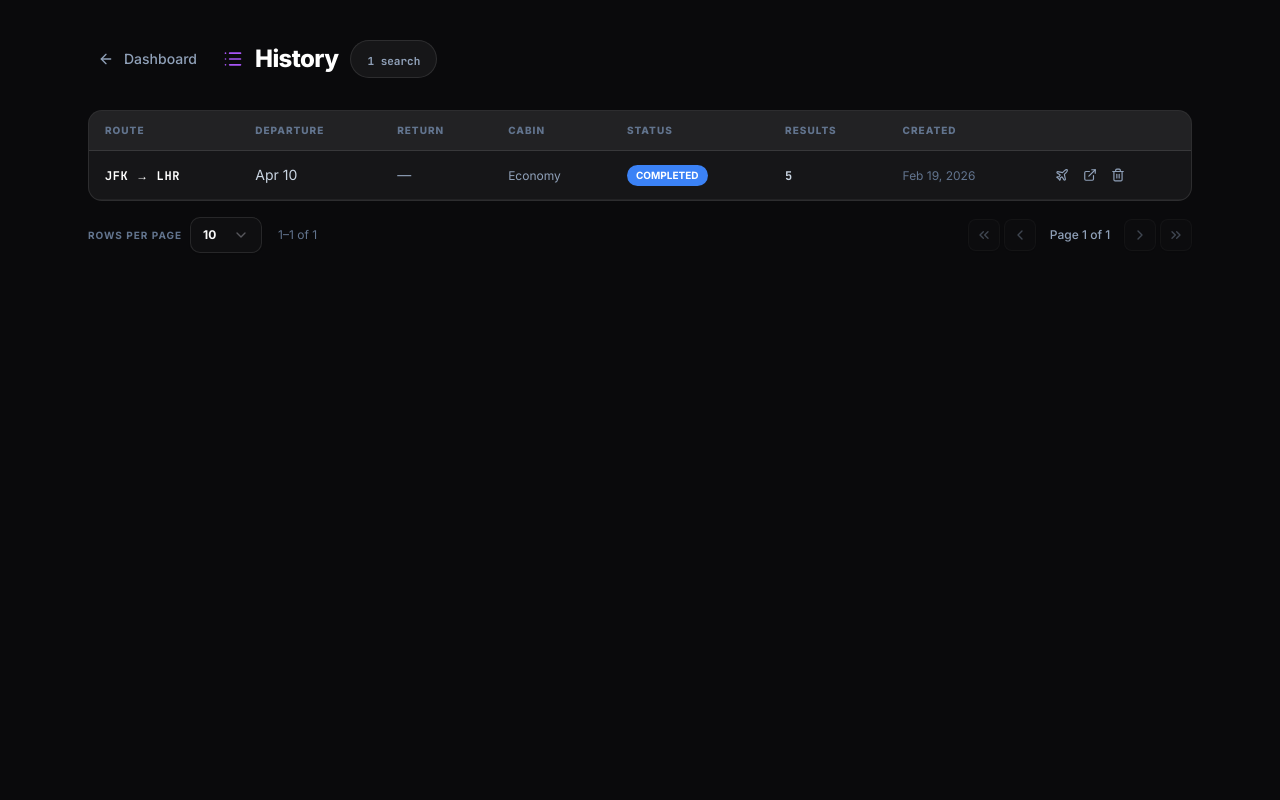
Test: History page › removes row from table after successful delete
Expected: the text "JFK → LHR" is shown, [105,168,180,184]
Click the button titled "Delete" at (1118, 175), box [1106,163,1130,187]
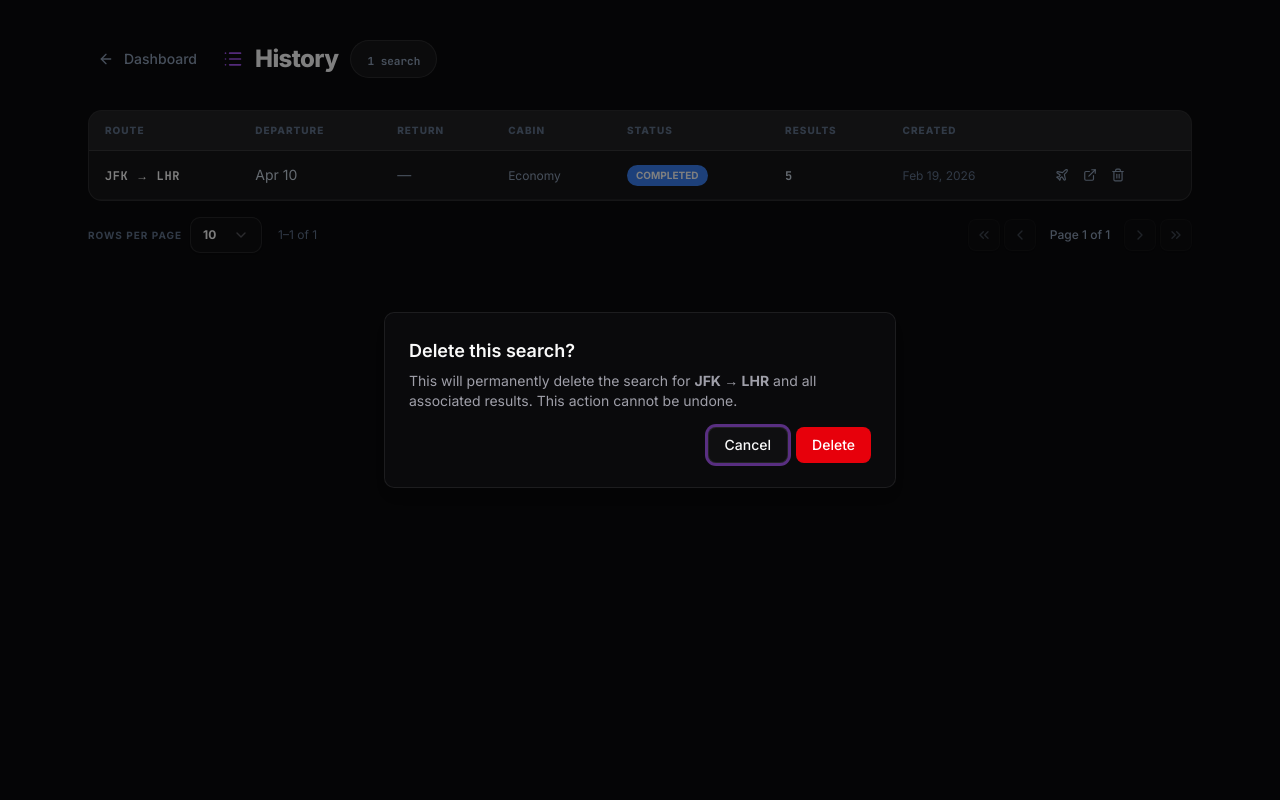
Click the button "Delete" at (834, 445), box [796,427,871,463]
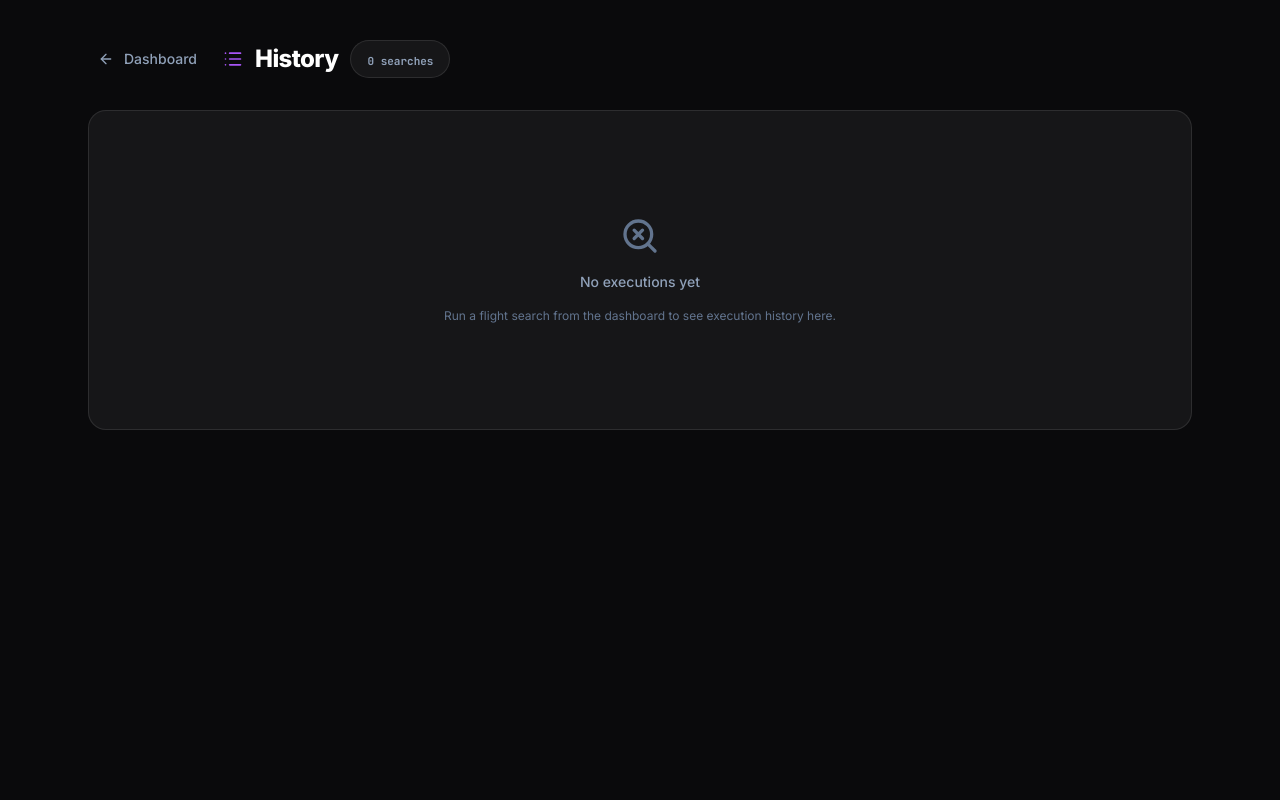
Now the text "JFK" is gone
